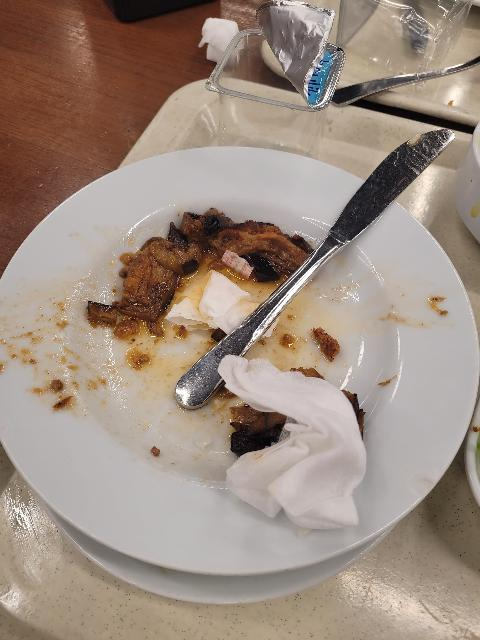Kagit: (218, 355, 368, 534)
Organik: (114, 202, 277, 312)
Plastik: (204, 27, 325, 155)
